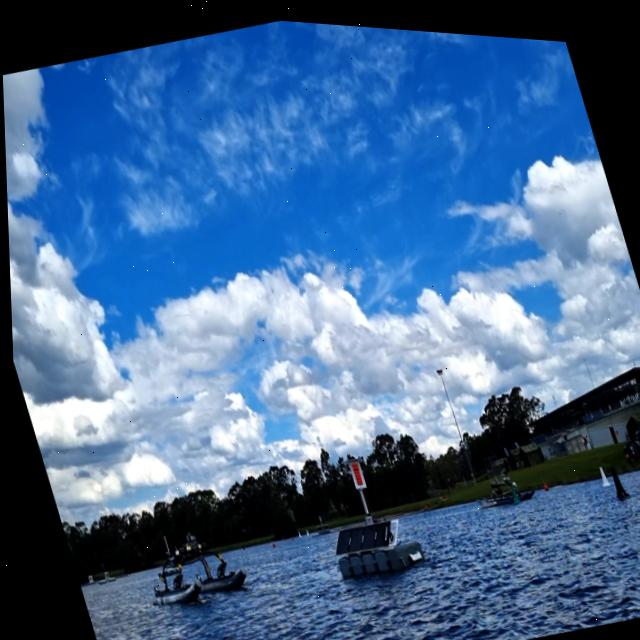led: (346, 454, 361, 482)
